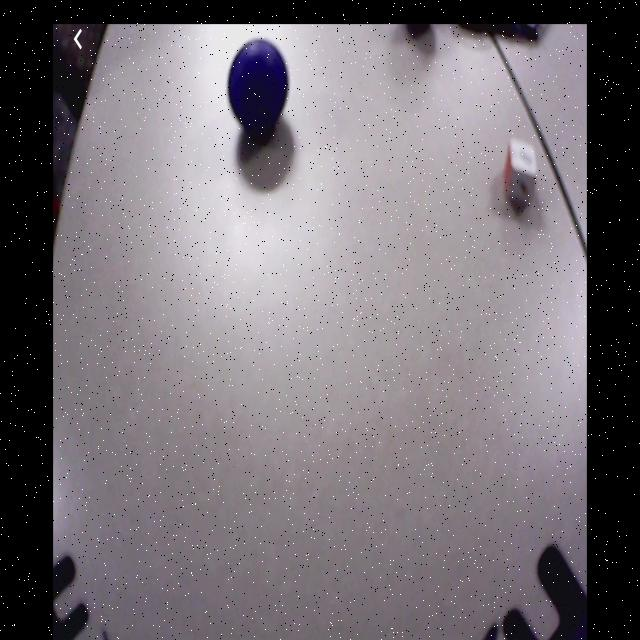ball: (229, 41, 289, 131)
